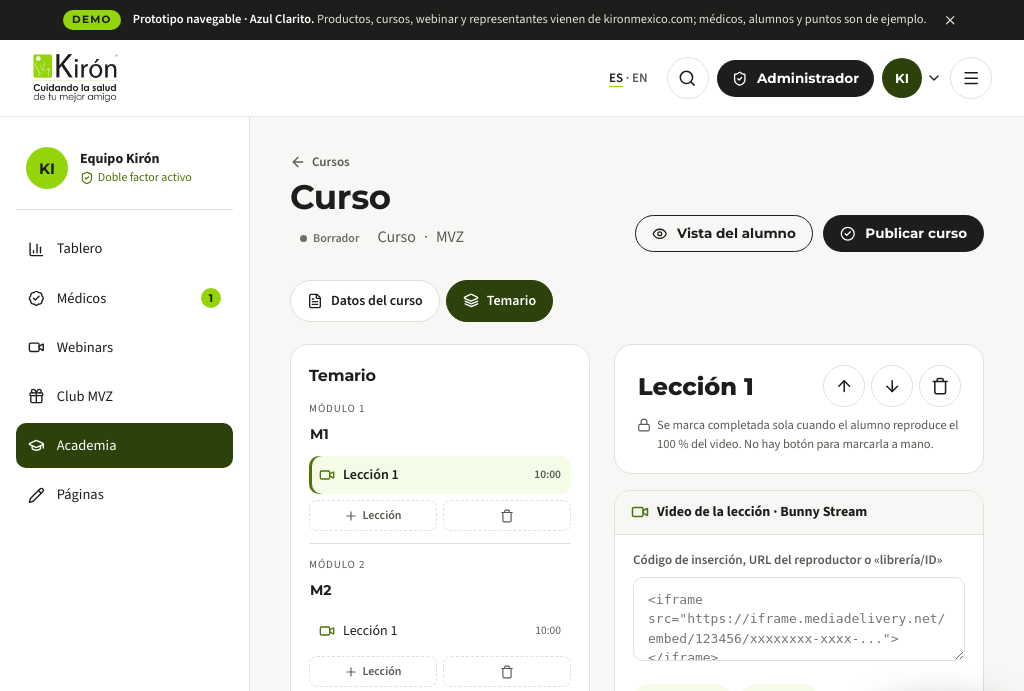
it: editor: 409 al publicar › muestra los pendientes que manda el servidor en el cuerpo del 409
What coordinates should you click on to do the following:
click the button "Publicar curso"
I would click on:
 (903, 233)
Its box is [823, 215, 984, 252].
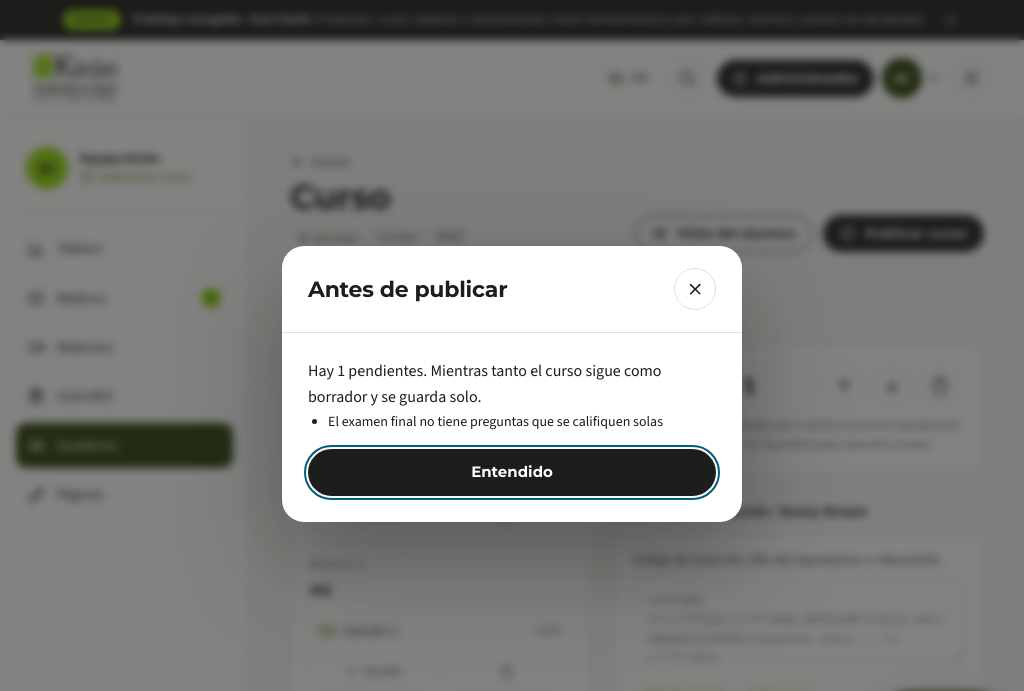
Expected: the list item "El examen final no tiene preguntas que se califiquen solas" is shown, [328, 410, 716, 433]
